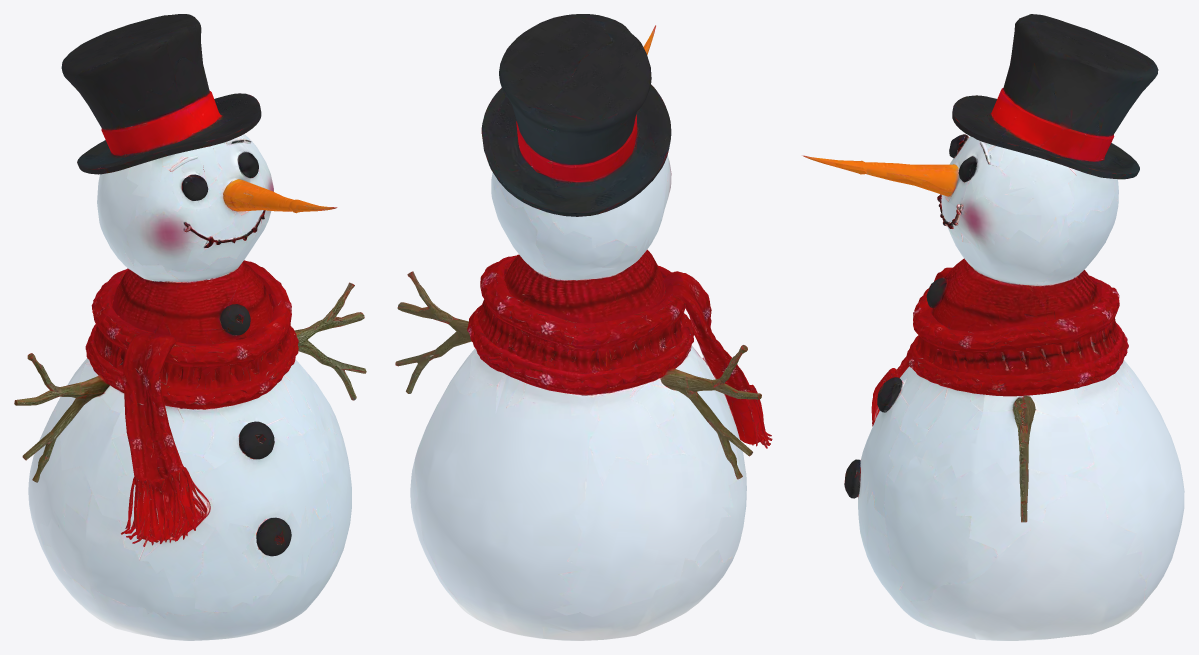
The model's file is snowman.glb.
3 views of the same model, side by side, from view 1: azimuth 30°, elevation 25°; view 2: azimuth 150°, elevation 25°; view 3: azimuth 270°, elevation 25° (orthographic). The views are drawn at different scales.
Bounding box in the file's own units: 1.25 × 1.9 × 1.17.
Materials: 1 (1 with a texture image).
